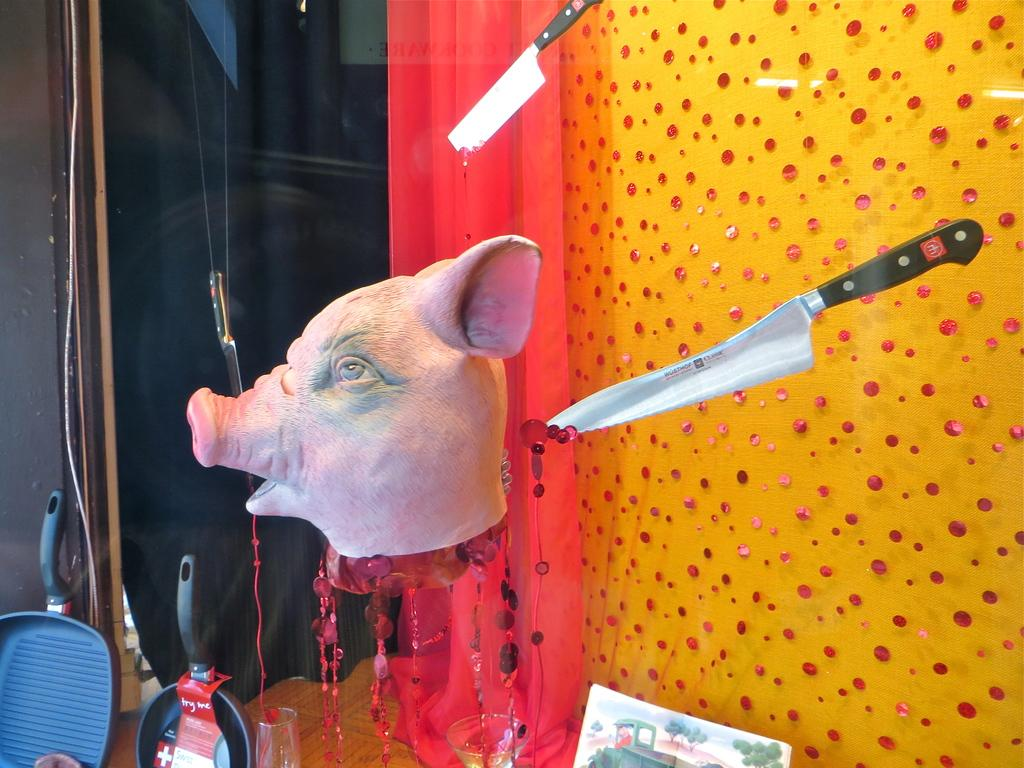Knife: (545, 216, 986, 440), (445, 0, 607, 166), (212, 266, 239, 393)
